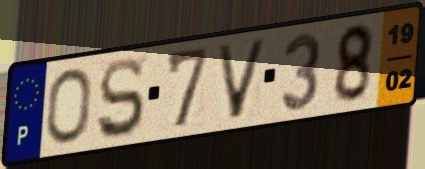3: (278, 28, 323, 115)
7: (164, 46, 212, 131)
8: (332, 21, 377, 106)
O: (45, 66, 93, 146)
S: (94, 55, 146, 143)
V: (214, 36, 271, 123)
